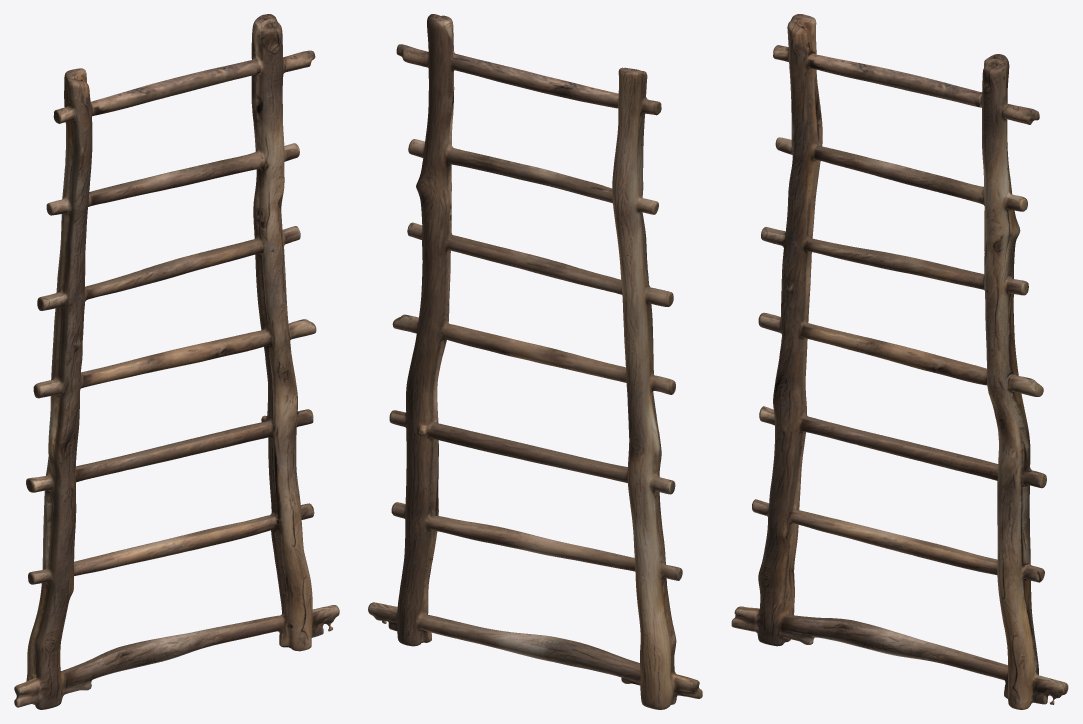
The model's file is AdobeStock_1153428767_png_20251102.glb.
The picture shows the model from 3 angles, left to right: view 1: azimuth 30°, elevation 25°; view 2: azimuth 150°, elevation 25°; view 3: azimuth 330°, elevation 25°; orthographic projection.
Bounding box in the file's own units: 1.08 × 2 × 0.1205.
Materials: 1 (1 with a texture image).
